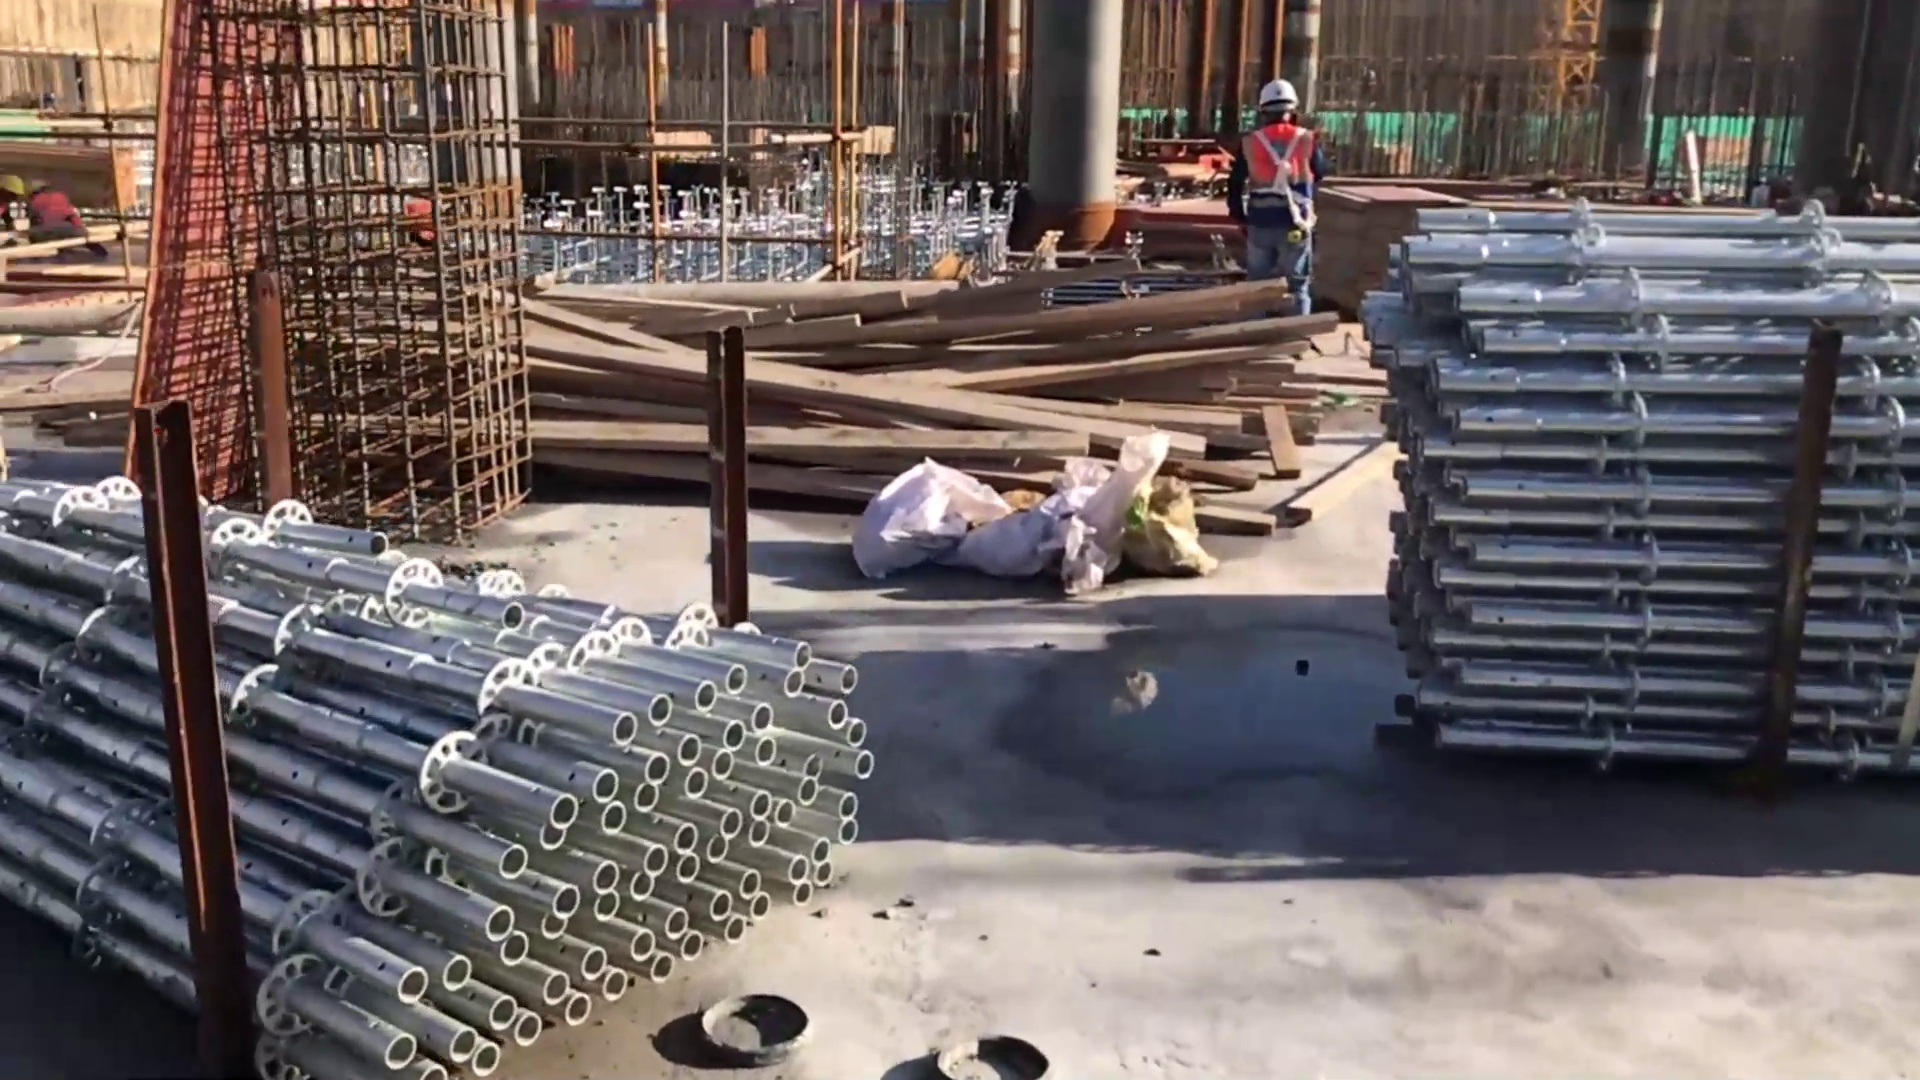helmet: (1260, 77, 1295, 108)
person: (1229, 76, 1329, 301)
scaffold: (1, 476, 876, 1080), (1350, 196, 1920, 772)
vest: (1236, 122, 1320, 232)
wood: (543, 254, 1321, 543)
